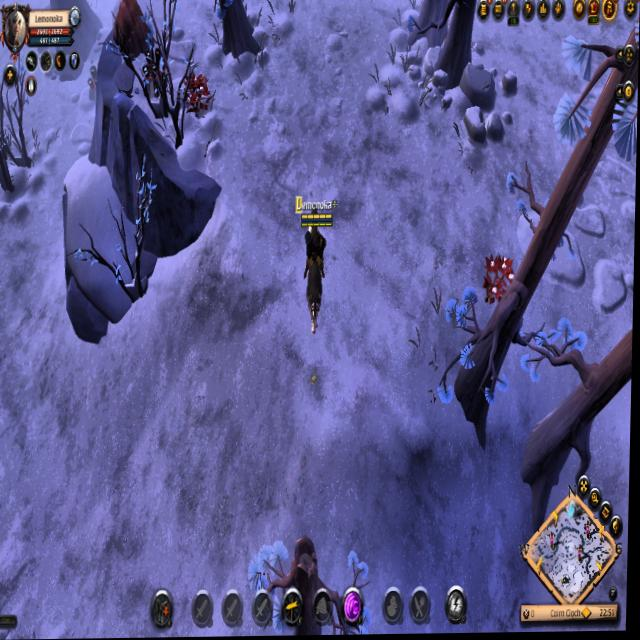fiber tier 5: (484, 252, 516, 310), (180, 66, 213, 120)
